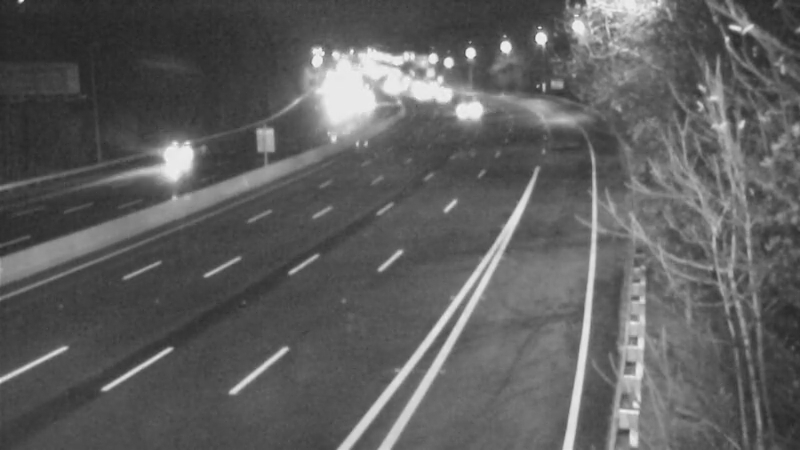vehicle: (125, 115, 205, 195), (443, 81, 493, 131)
